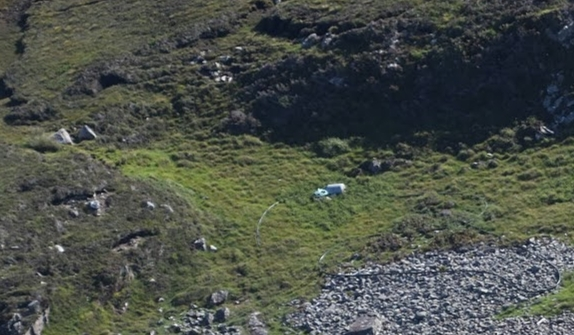tube: (458, 210, 532, 255), (508, 253, 568, 300), (309, 234, 362, 284), (245, 197, 284, 239), (364, 263, 429, 284), (432, 261, 497, 282)
white_in_green: (293, 159, 375, 221)
